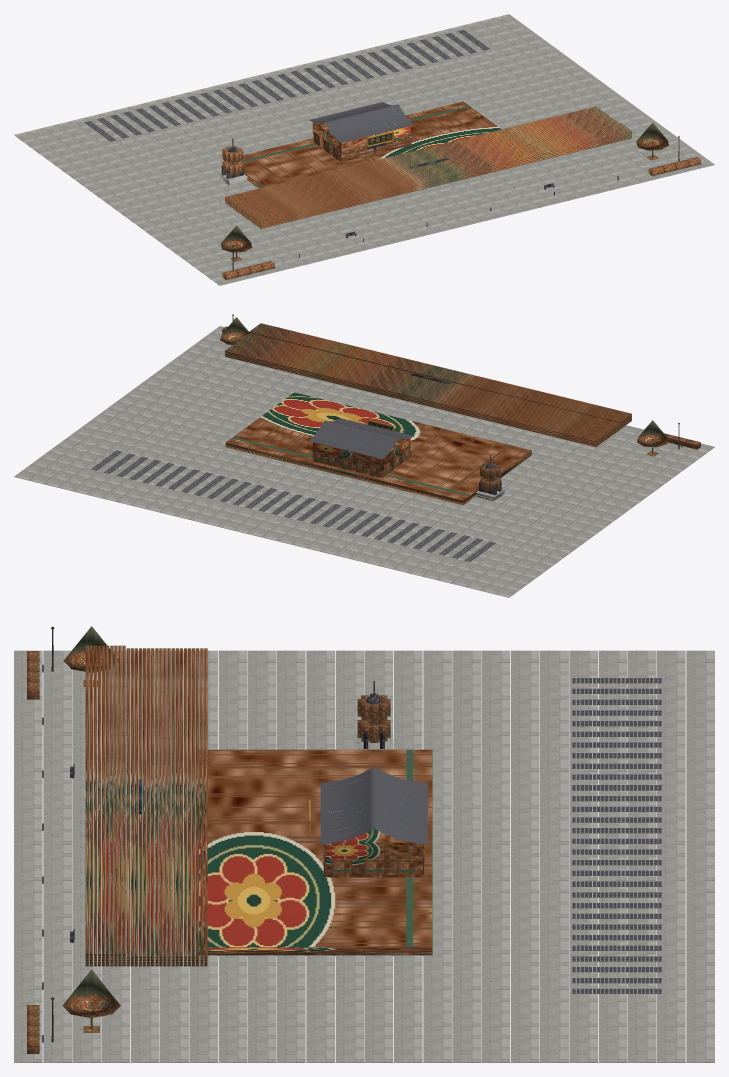
3 renders of one model, top to bottom at view 1: azimuth 30°, elevation 25°; view 2: azimuth 150°, elevation 25°; view 3: azimuth 270°, elevation 25°, orthographic. The views are drawn at different scales.
Parts seen in each view (by area): view 1: 11680_01_06378_048_01__plinth_ground_base, 11680_01_06378_048_02__mass_body_facade, 11680_01_06378_048_03__roof_deck_structure, 11680_01_06378_048_06__landscape_greenery, 11680_01_06378_048_05__window_sash_glass, 11680_01_06378_048_05__door_hardware_iron; view 2: 11680_01_06378_048_01__plinth_ground_base, 11680_01_06378_048_02__mass_body_facade, 11680_01_06378_048_03__roof_deck_structure, 11680_01_06378_048_06__landscape_greenery, 11680_01_06378_048_05__window_sash_glass; view 3: 11680_01_06378_048_01__plinth_ground_base, 11680_01_06378_048_02__mass_body_facade, 11680_01_06378_048_03__roof_deck_structure, 11680_01_06378_048_06__landscape_greenery, 11680_01_06378_048_05__window_sash_glass.
Part boxes in pixels (x1,y1,x2,y2): 11680_01_06378_048_01__plinth_ground_base: (14,14,714,285); 11680_01_06378_048_02__mass_body_facade: (225,101,631,228); 11680_01_06378_048_03__roof_deck_structure: (84,30,489,142); 11680_01_06378_048_06__landscape_greenery: (220,122,700,280); 11680_01_06378_048_05__window_sash_glass: (222,134,409,175); 11680_01_06378_048_05__door_hardware_iron: (221,136,679,269); 11680_01_06378_048_01__plinth_ground_base: (14,326,714,597); 11680_01_06378_048_02__mass_body_facade: (225,323,631,505); 11680_01_06378_048_03__roof_deck_structure: (90,418,496,561); 11680_01_06378_048_06__landscape_greenery: (220,317,700,456); 11680_01_06378_048_05__window_sash_glass: (480,462,500,491); 11680_01_06378_048_01__plinth_ground_base: (14,650,714,1062); 11680_01_06378_048_02__mass_body_facade: (85,645,432,966); 11680_01_06378_048_03__roof_deck_structure: (320,678,661,993); 11680_01_06378_048_06__landscape_greenery: (27,626,120,1053); 11680_01_06378_048_05__window_sash_glass: (323,693,390,864).
Size of the model in its own units: 99.95 by 7.8 by 71.95.
7 materials, 7 textured.
